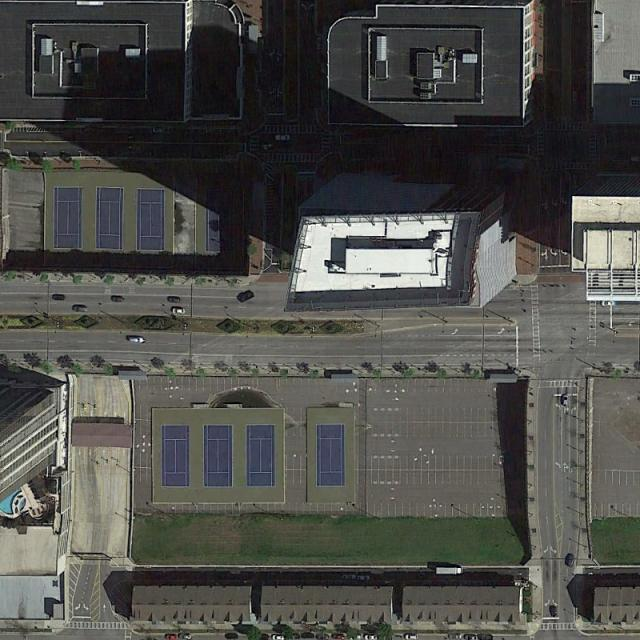vehicle: (237, 290, 254, 302), (436, 567, 463, 574), (274, 134, 291, 142), (567, 553, 574, 567), (550, 606, 558, 618), (128, 337, 143, 343), (478, 634, 492, 640), (72, 306, 85, 312), (110, 296, 123, 302), (52, 295, 64, 301), (365, 634, 377, 640), (332, 634, 346, 639), (448, 634, 462, 639), (173, 308, 184, 314), (166, 634, 177, 640), (168, 297, 180, 302), (562, 394, 567, 406), (179, 634, 191, 639), (272, 635, 284, 640), (406, 634, 418, 639), (464, 635, 476, 640), (317, 635, 328, 640), (301, 634, 314, 638), (226, 634, 237, 638)
